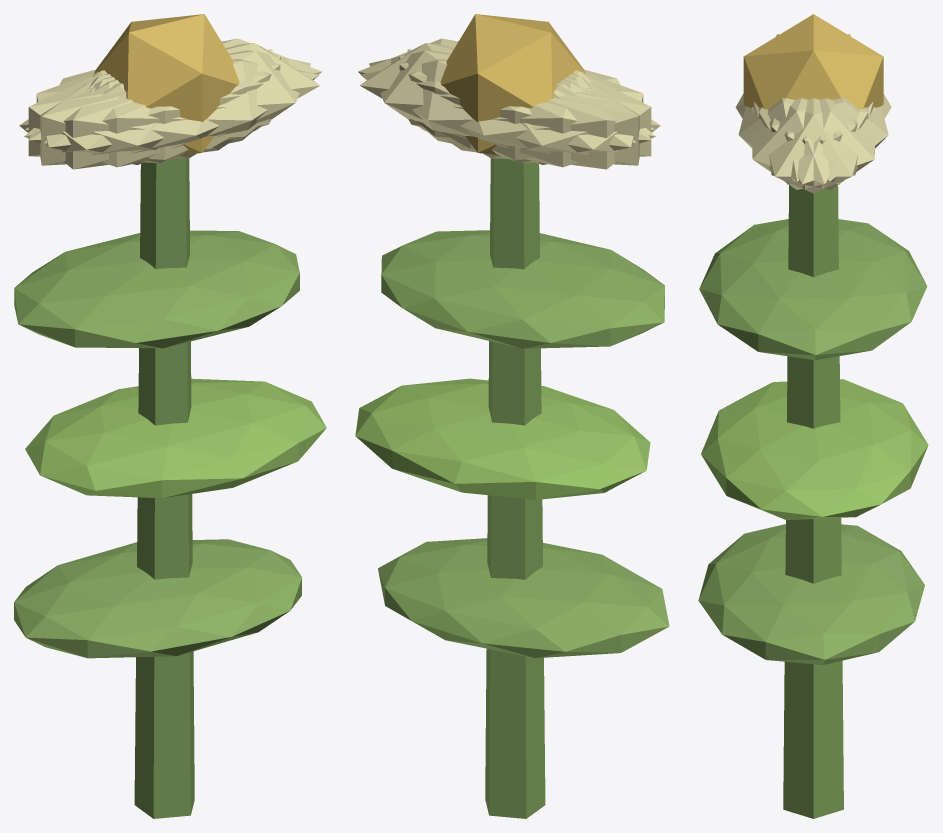
The model's file is parietaria-judaica.glb.
3 views of the same model, side by side, from view 1: azimuth 30°, elevation 25°; view 2: azimuth 150°, elevation 25°; view 3: azimuth 270°, elevation 25° (orthographic).
Parts seen in each view (by area): view 1: leaf1, leaf2, leaf0, stem, center, petal1, petal6, petal2, petal5, petal7, petal0, petal4 (+2 smaller); view 2: leaf1, leaf2, leaf0, stem, center, petal8, petal3, petal7, petal4, petal2, petal0, petal5 (+2 smaller); view 3: leaf1, leaf2, leaf0, stem, center, petal0, petal5, petal4, petal1, petal8.
Boxes of the visible parts, x1,y1,x2,y2 form: leaf1: (25, 378, 326, 498); leaf2: (14, 230, 299, 348); leaf0: (14, 539, 301, 658); stem: (134, 158, 194, 818); center: (94, 14, 239, 155); petal1: (24, 59, 318, 167); petal6: (19, 72, 232, 169); petal2: (40, 49, 272, 165); petal5: (44, 50, 310, 159); petal7: (28, 55, 280, 163); petal0: (93, 43, 319, 149); petal4: (25, 38, 321, 140); leaf1: (355, 378, 650, 499); leaf2: (381, 230, 664, 348); leaf0: (378, 538, 669, 658); stem: (485, 158, 545, 818); center: (440, 14, 585, 155); petal8: (361, 59, 655, 167); petal3: (447, 72, 660, 169); petal7: (407, 49, 639, 165); petal4: (369, 50, 635, 159); petal2: (399, 55, 651, 163); petal0: (360, 43, 586, 149); petal5: (358, 38, 654, 140); leaf1: (701, 379, 928, 519); leaf2: (699, 219, 927, 360); leaf0: (698, 524, 924, 664); stem: (783, 185, 843, 818); center: (743, 14, 883, 109); petal0: (753, 98, 873, 193); petal5: (752, 98, 868, 189); petal4: (759, 98, 875, 189); petal1: (738, 98, 857, 181); petal8: (769, 98, 888, 181).
Size of the model in its own units: 0.1498 by 0.3739 by 0.1008.
